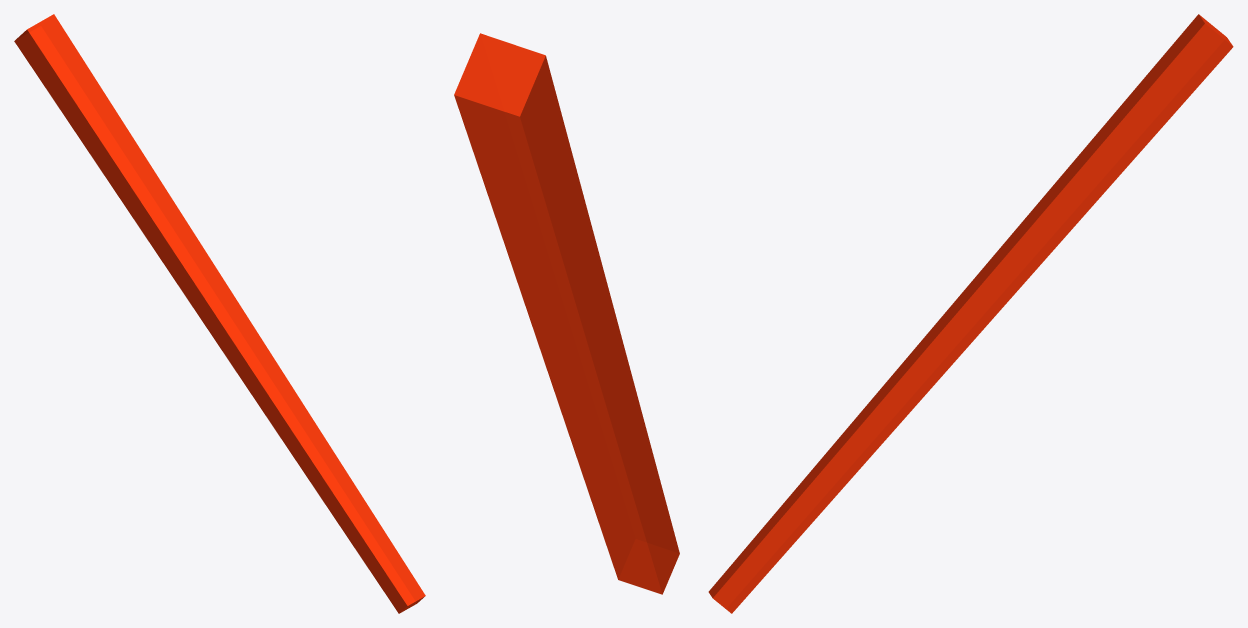
File: Event_420094457_EBrechit_7.fbx
The picture shows the model from 3 angles, left to right: view 1: azimuth 30°, elevation 25°; view 2: azimuth 150°, elevation 25°; view 3: azimuth 270°, elevation 25°; orthographic projection. The views are drawn at different scales.
Parts seen in each view (by area): view 1: Model; view 2: Model; view 3: Model.
Boxes of the visible parts, x1,y1,x2,y2 form: Model: [14, 14, 425, 613]; Model: [454, 33, 679, 594]; Model: [708, 14, 1233, 613].
Bounding box in the file's own units: 0.4838 × 1.23 × 1.14.
